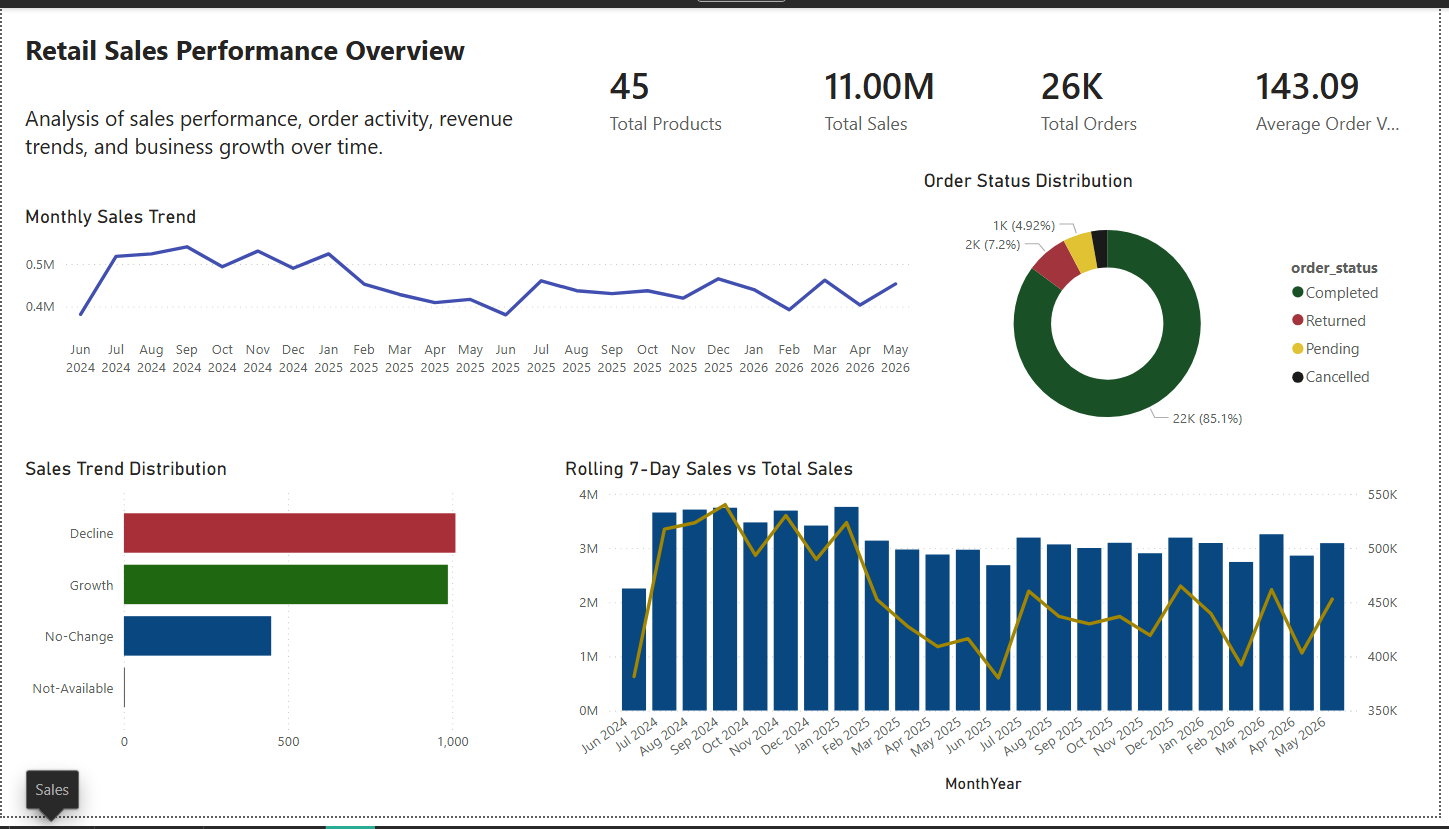

This screenshot's page, from the dashboard's own definition file:
{"tool":"powerbi","page":{"name":"Sales","canvas":[1280,720],"ordinal":0},"visuals":[{"type":"cardVisual","fields":{"Data":["Sum(gold sales_summary.total_orders)"]},"box":[896,16,192,128],"z":0},{"type":"cardVisual","fields":{"Data":["Sum(gold sales_summary.total_sales)"]},"box":[704,16,192,128],"z":1000},{"type":"cardVisual","fields":{"Data":["Avg(gold sales_summary.avg_order_revenue)"]},"box":[1088,16,192,128],"z":2000},{"type":"cardVisual","fields":{"Data":["Count(gold products_summary.total_products_sold)"]},"box":[512,16,192,128],"z":3000},{"type":"lineChart","title":"Monthly Sales Trend","fields":{"Y":["Sum(gold sales_summary.total_sales)"],"Category":["gold sales_summary.MonthYear"]},"box":[16,176,800,160],"z":4000},{"type":"lineClusteredColumnComboChart","title":"Rolling 7-Day Sales vs Total Sales","fields":{"Category":["gold sales_summary.MonthYear"],"Y2":["Sum(gold sales_summary.total_sales)"],"Y":["Sum(gold sales_summary.rolling_7day_sales)"]},"box":[496,400,752,304],"z":5000},{"type":"textbox","box":[16,16,496,64],"z":6000},{"type":"textbox","box":[16,80,496,64],"z":7000},{"type":"clusteredBarChart","title":"Sales Trend Distribution","fields":{"Category":["gold sales_summary.sales_trend"],"Y":["CountNonNull(gold sales_summary.sales_trend)"]},"box":[16,400,464,272],"z":8000},{"type":"donutChart","title":"Order Status Distribution","fields":{"Category":["gold sales_summary.order_status"],"Y":["Sum(gold sales_summary.total_orders)"]},"box":[816,144,432,256],"z":9000}]}

Visuals, with their boxes in screenshot pixels (x1, y1, x2, y2), scaled from the page's 1280x720 canvas onto the 1449x829 screenshot:
cardVisual - Sum(gold sales_summary.total_orders): (left=1014, top=18, right=1232, bottom=166)
cardVisual - Sum(gold sales_summary.total_sales): (left=797, top=18, right=1014, bottom=166)
cardVisual - Avg(gold sales_summary.avg_order_revenue): (left=1232, top=18, right=1448, bottom=166)
cardVisual - Count(gold products_summary.total_products_sold): (left=580, top=18, right=797, bottom=166)
"Monthly Sales Trend" lineChart: (left=18, top=203, right=924, bottom=387)
"Rolling 7-Day Sales vs Total Sales" lineClusteredColumnComboChart: (left=561, top=461, right=1413, bottom=811)
textbox: (left=18, top=18, right=580, bottom=92)
textbox: (left=18, top=92, right=580, bottom=166)
"Sales Trend Distribution" clusteredBarChart: (left=18, top=461, right=543, bottom=774)
"Order Status Distribution" donutChart: (left=924, top=166, right=1413, bottom=461)
